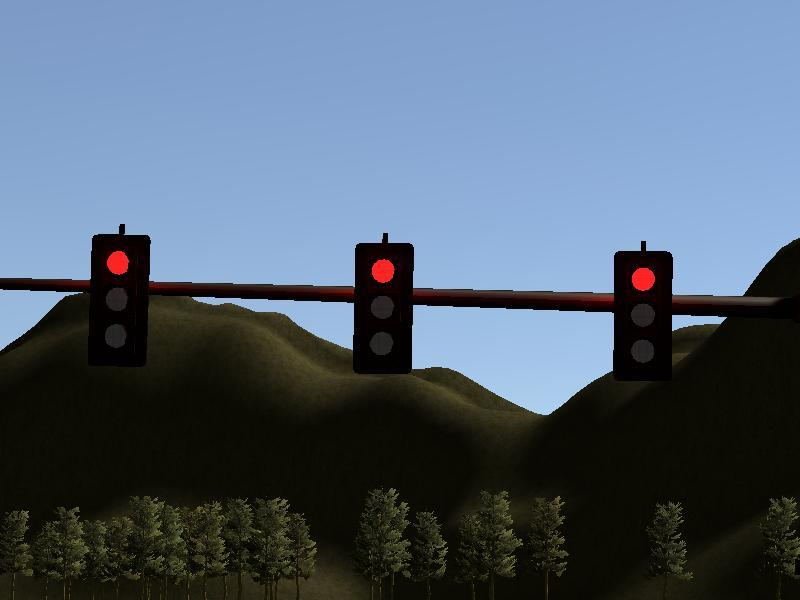Red: (355, 242, 412, 374), (614, 252, 671, 381), (92, 233, 145, 367)
